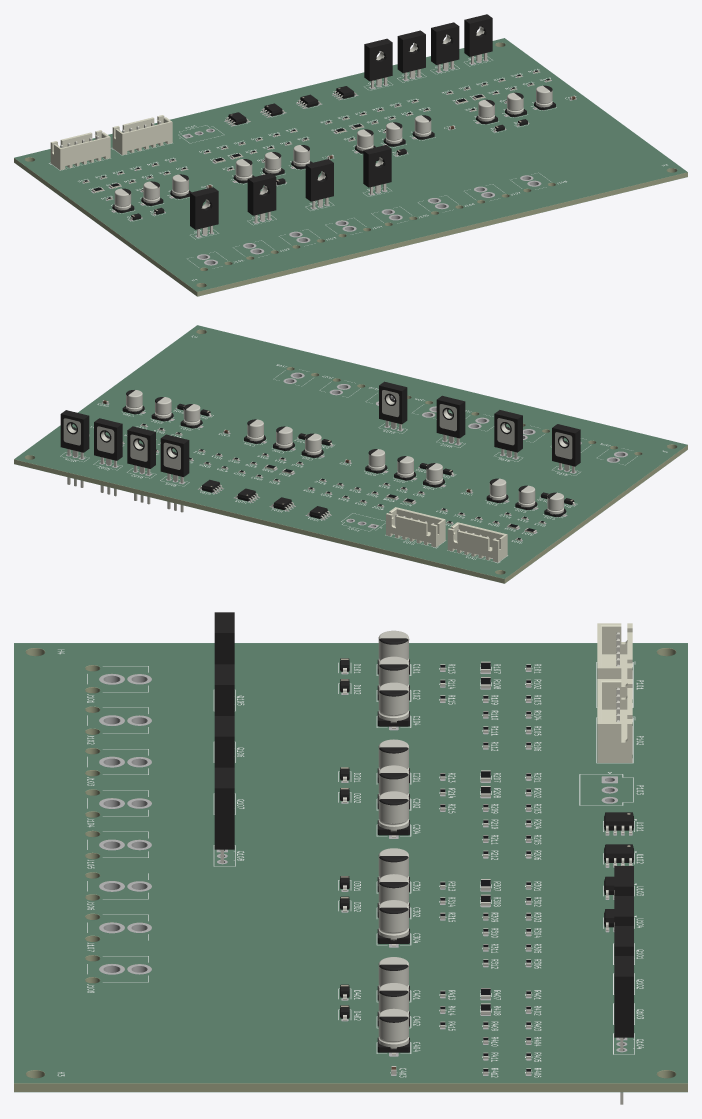
The model's file is tank-driver-recovery.glb.
3 views of the same model, one above another, from view 1: azimuth 30°, elevation 25°; view 2: azimuth 150°, elevation 25°; view 3: azimuth 270°, elevation 25° (orthographic). The views are drawn at different scales.
Parts seen in each view (by area): view 1: =>[0:1:1:20], =>[0:1:1:22], =>[0:1:1:13] (×8), =>[0:1:1:17] (×2), =>[0:1:1:18], =>[0:1:1:19], =>[0:1:1:7] (×2); view 2: =>[0:1:1:20], =>[0:1:1:22], =>[0:1:1:13] (×8), =>[0:1:1:7] (×12), =>[0:1:1:17] (×2), =>[0:1:1:19], =>[0:1:1:18]; view 3: =>[0:1:1:20], =>[0:1:1:22], =>[0:1:1:7] (×12), =>[0:1:1:19], =>[0:1:1:13] (×5), =>[0:1:1:18], =>[0:1:1:17] (×2).
Part boxes in pixels (x1,y1,x2,y2): =>[0:1:1:20]: [14, 38, 687, 291]; =>[0:1:1:22]: [14, 39, 687, 296]; =>[0:1:1:13] (×8): [190, 14, 492, 236]; =>[0:1:1:17] (×2): [50, 115, 172, 170]; =>[0:1:1:18]: [82, 59, 576, 265]; =>[0:1:1:19]: [49, 56, 667, 280]; =>[0:1:1:7] (×2): [112, 115, 434, 212]; =>[0:1:1:20]: [14, 325, 687, 578]; =>[0:1:1:22]: [14, 326, 687, 583]; =>[0:1:1:13] (×8): [60, 381, 580, 512]; =>[0:1:1:7] (×12): [122, 390, 566, 517]; =>[0:1:1:17] (×2): [386, 507, 507, 562]; =>[0:1:1:19]: [60, 335, 667, 563]; =>[0:1:1:18]: [66, 372, 627, 558]; =>[0:1:1:20]: [14, 643, 687, 1083]; =>[0:1:1:22]: [14, 644, 687, 1091]; =>[0:1:1:7] (×12): [377, 630, 409, 1055]; =>[0:1:1:19]: [57, 649, 643, 1077]; =>[0:1:1:13] (×5): [214, 612, 633, 1104]; =>[0:1:1:18]: [99, 664, 632, 1075]; =>[0:1:1:17] (×2): [597, 623, 632, 762].
Size of the model in its own units: 0.17 by 0.0238 by 0.11.
